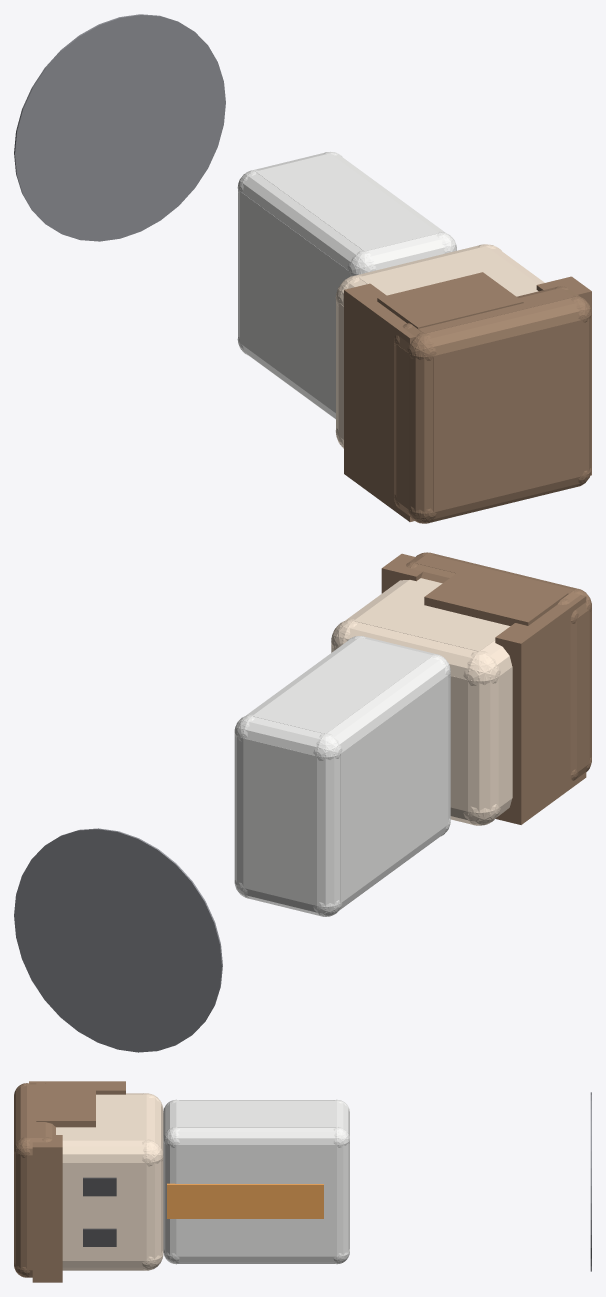
Rendered from person.glb.
3 renders of one model, top to bottom at view 1: azimuth 30°, elevation 25°; view 2: azimuth 150°, elevation 25°; view 3: azimuth 270°, elevation 25°, orthographic. The views are drawn at different scales.
Parts seen in each view (by area): view 1: shadow_visual, hair_top_z_visual, torso_x_visual, hair_back_visual, torso_y_visual, hair_side_left_visual, head_y_visual, hair_top_edge3_visual, hair_top_edge5_visual, torso_edge9_visual, hair_top_x_visual, torso_edge3_visual (+6 smaller); view 2: shadow_visual, torso_x_visual, hair_back_visual, torso_z_visual, torso_y_visual, hair_side_left_visual, head_y_visual, head_edge4_visual, torso_edge4_visual, torso_edge9_visual, head_edge2_visual, head_z_visual (+11 smaller); view 3: torso_x_visual, head_x_visual, shirt_front_visual, hair_fringe_visual, torso_y_visual, head_y_visual, torso_edge11_visual, hair_side_left_visual, head_edge11_visual, head_edge6_visual, hair_top_edge7_visual, torso_edge6_visual (+13 smaller).
Part boxes in pixels (<box>): shadow_visual: <box>14,14,225,241</box>; hair_top_z_visual: <box>433,320,582,512</box>; torso_x_visual: <box>240,191,349,412</box>; hair_back_visual: <box>344,283,414,521</box>; torso_y_visual: <box>255,153,438,251</box>; hair_side_left_visual: <box>377,272,523,328</box>; head_y_visual: <box>359,246,538,296</box>; hair_top_edge3_visual: <box>407,296,591,359</box>; hair_top_edge5_visual: <box>409,333,433,523</box>; torso_edge9_visual: <box>237,170,376,274</box>; hair_top_x_visual: <box>396,344,408,509</box>; torso_edge3_visual: <box>347,232,456,276</box>; shadow_visual: <box>14,828,222,1052</box>; torso_x_visual: <box>340,675,448,902</box>; hair_back_visual: <box>495,595,586,824</box>; torso_z_visual: <box>243,738,316,905</box>; torso_y_visual: <box>252,637,432,733</box>; hair_side_left_visual: <box>424,567,568,625</box>; head_y_visual: <box>354,578,510,651</box>; head_edge4_visual: <box>467,651,498,825</box>; torso_edge4_visual: <box>316,733,340,916</box>; torso_edge9_visual: <box>313,654,450,760</box>; head_edge2_visual: <box>331,620,500,684</box>; head_z_visual: <box>450,676,467,811</box>; torso_x_visual: <box>176,1145,336,1256</box>; head_x_visual: <box>62,1163,146,1260</box>; shirt_front_visual: <box>167,1183,323,1218</box>; hair_fringe_visual: <box>32,1135,62,1282</box>; torso_y_visual: <box>176,1101,336,1127</box>; head_y_visual: <box>56,1094,146,1140</box>; torso_edge11_visual: <box>163,1127,349,1145</box>; hair_side_left_visual: <box>36,1083,95,1127</box>; head_edge11_visual: <box>62,1140,163,1163</box>; head_edge6_visual: <box>142,1139,163,1270</box>; hair_top_edge7_visual: <box>14,1137,30,1277</box>; torso_edge6_visual: <box>333,1127,349,1263</box>.
Bounding box in the file's own units: 0.48 × 0.48 × 1.55.
